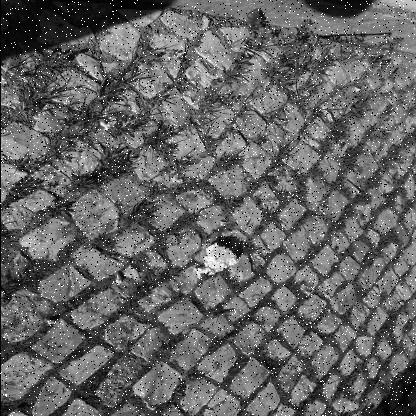foam: (194, 242, 240, 278)
